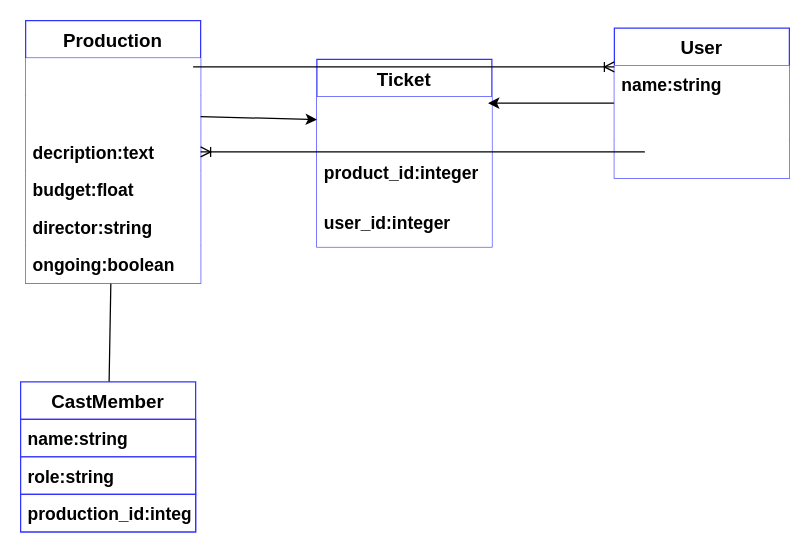
This 810x553 diagram has some shape labels left out. The shapes that lost their labels are listed below. From the top down, each one's centre as x and y in pixels, then its label:
At [112,76]: "title:string".
At [112,113]: "genre:string".
At [403,121]: "price:float".
At [701,121]: "email:string".
At [701,159]: "password:string".
